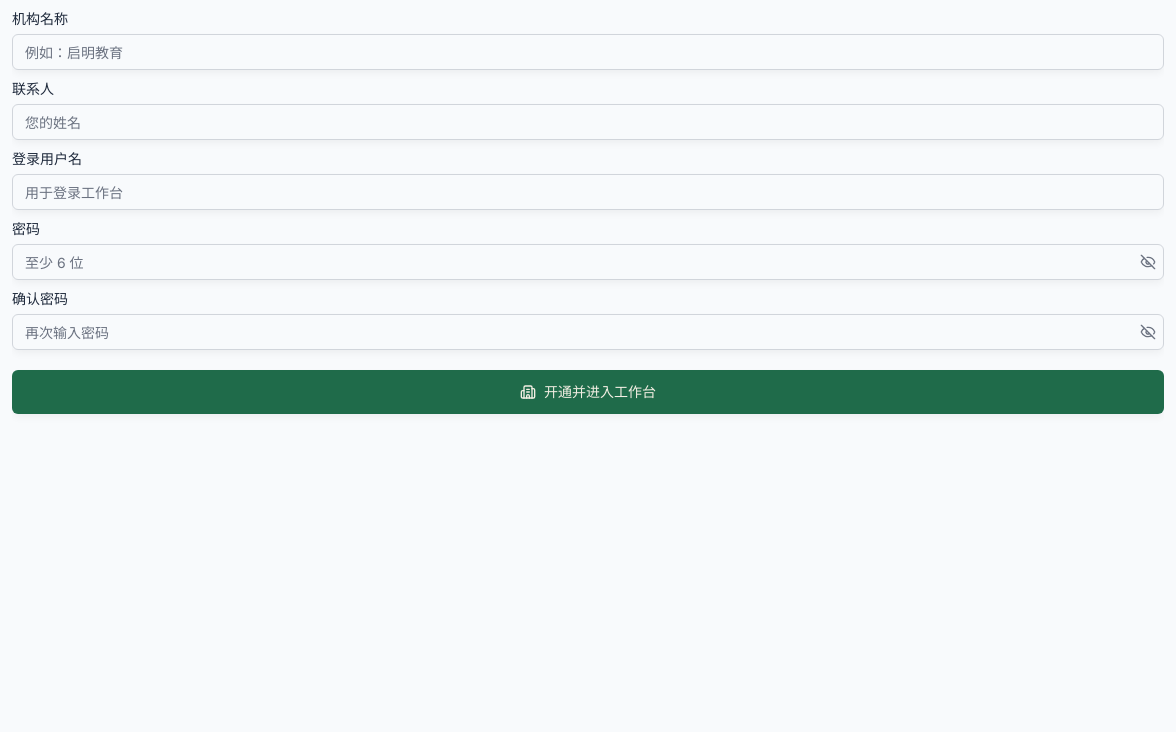
SignUpForm › shows validation messages when submitting empty form
Step 1. Click the button "开通并进入工作台" → (588, 392), box [12,370,1164,414]
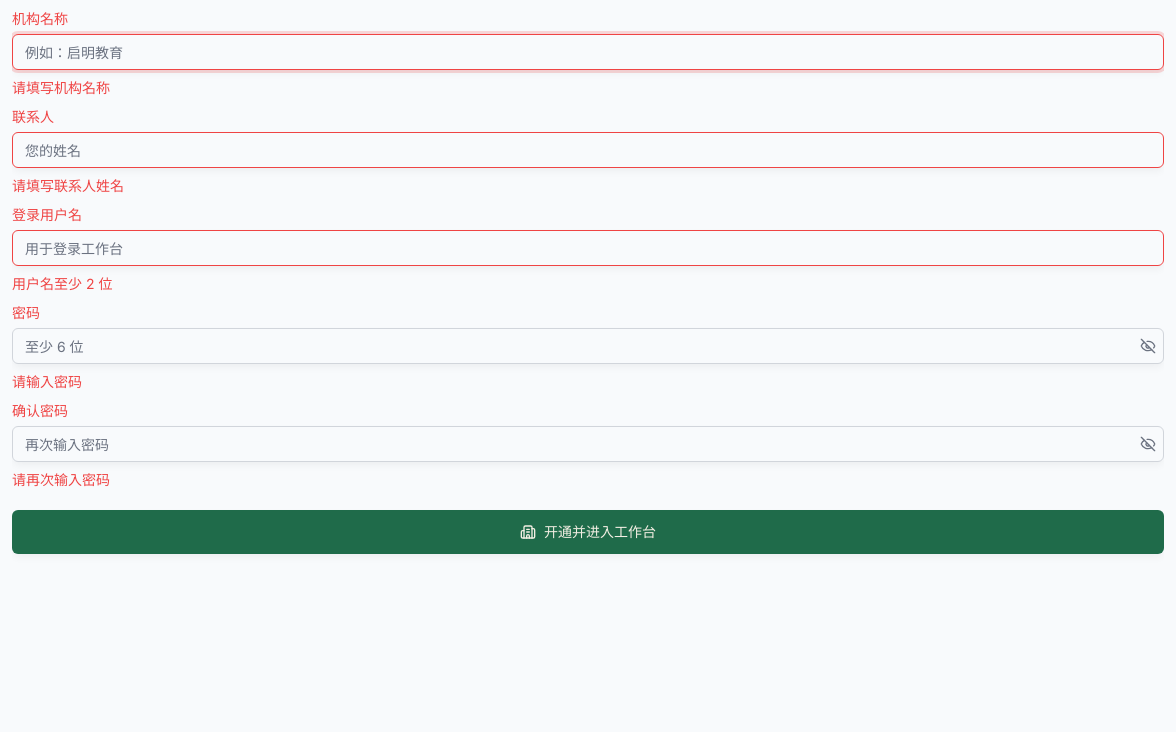
Check: the text "请填写机构名称" is shown, box [12,79,110,96]
Check: the text "请输入密码" is shown, box [12,373,82,390]
Check: the text "请再次输入密码" is shown, box [12,471,110,488]
